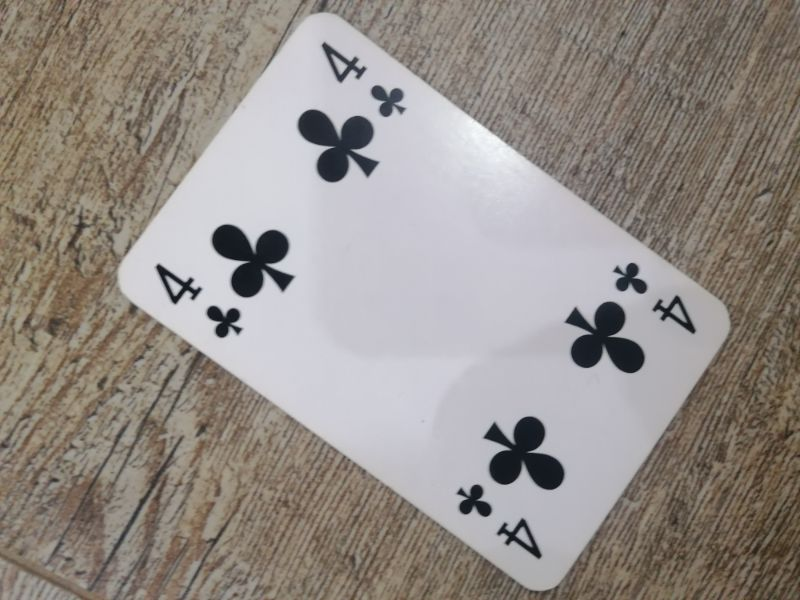4c: (147, 256, 250, 343), (314, 37, 414, 122), (452, 482, 548, 563), (608, 259, 701, 339)
